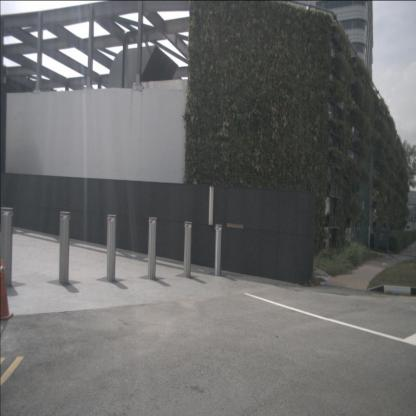movable_object-trafficcone: (0, 260, 14, 320)
